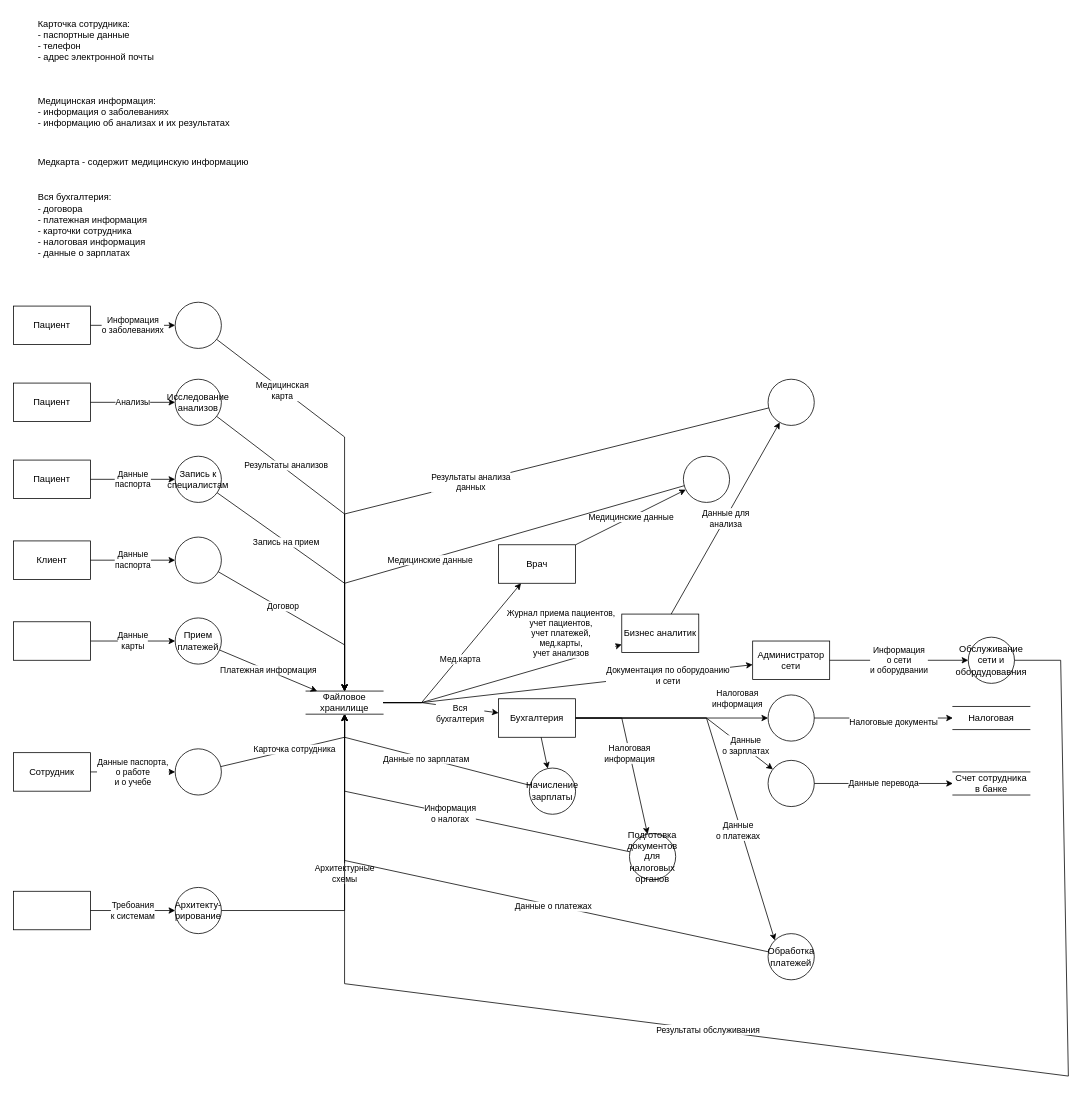
This 1088x1096 diagram has some shape labels left out. The shapes that lost their labels are listed below. From the top down, each one's centre as x and y in pixels, then its label:
(197,324): Прием у врача
(790,401): Анализ данных
(706,478): Лечение
(197,559): Заключение договора
(51,640): Плательщик
(790,717): Налоговая отчетность
(197,771): Кадровый учет
(790,783): Выплата зарплаты
(51,910): Технический директор
